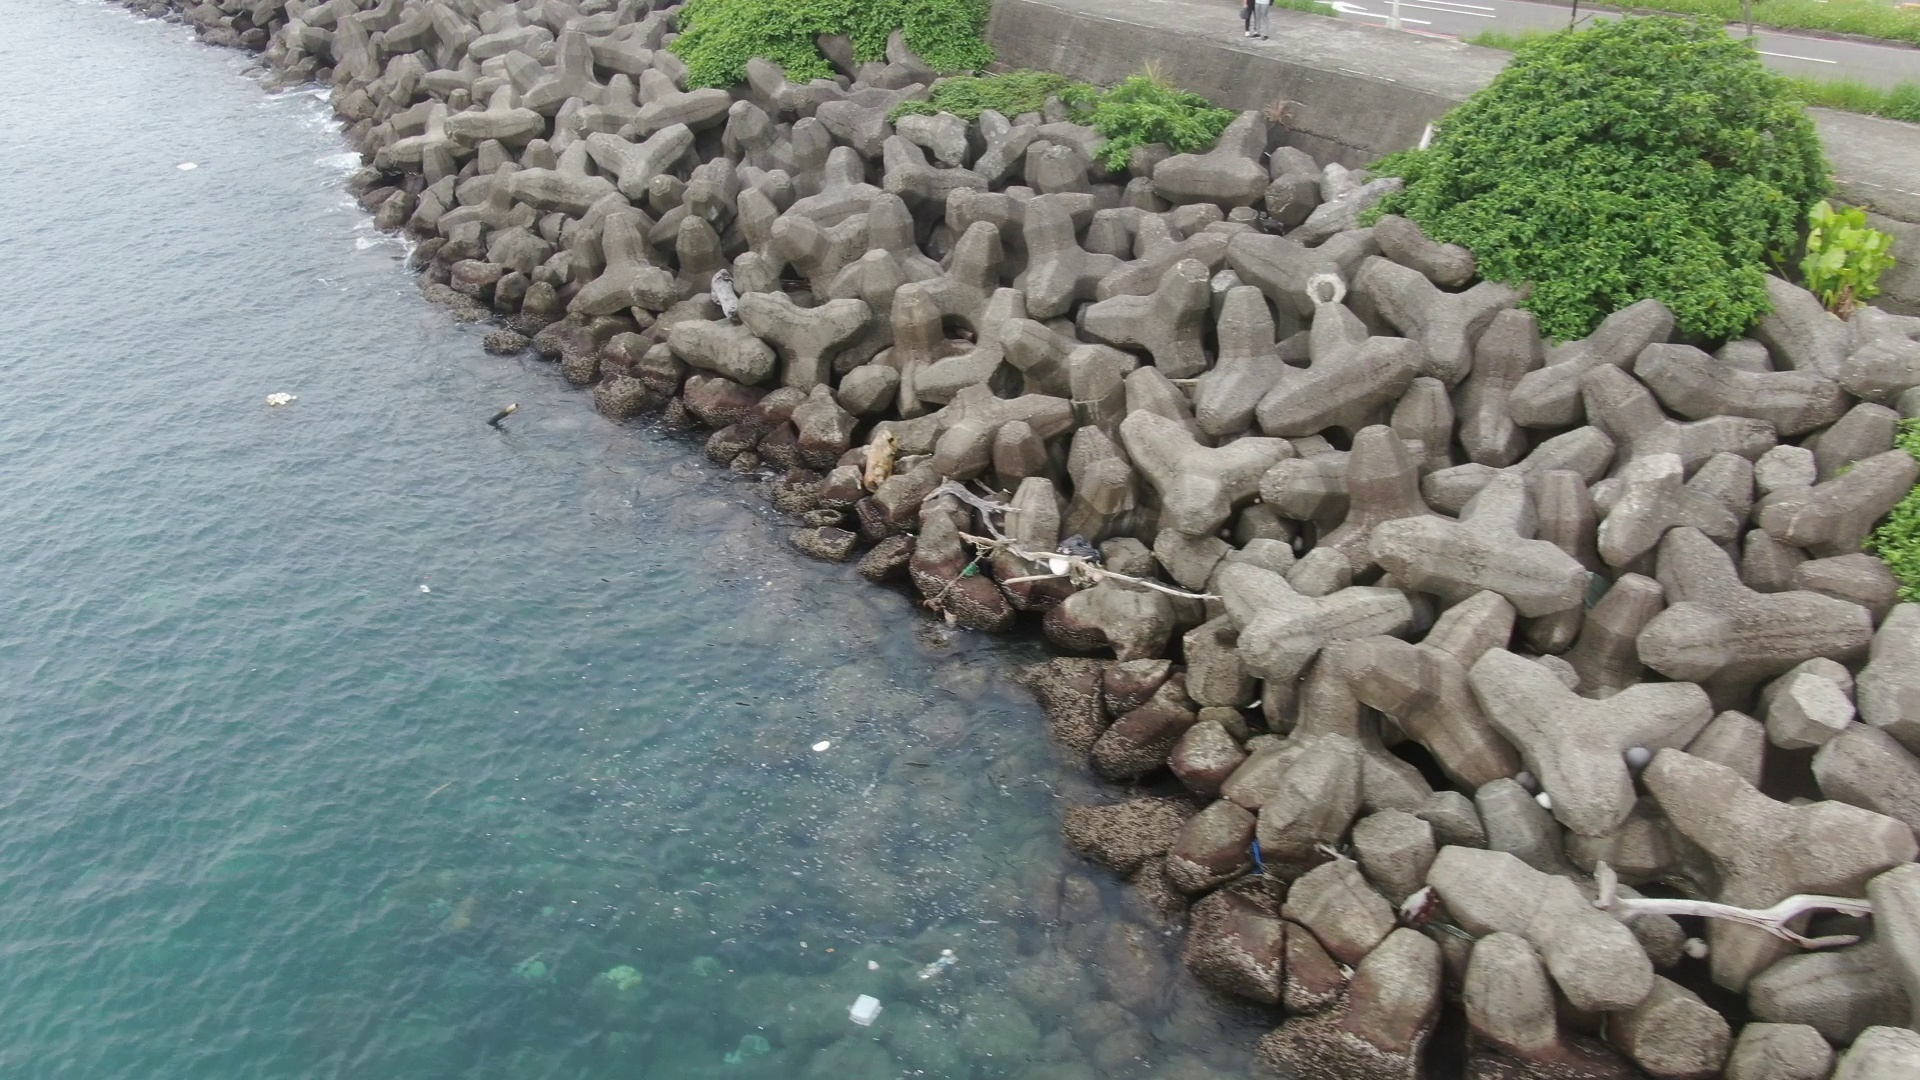garbage: (943, 501, 1141, 604), (837, 994, 898, 1035), (258, 388, 303, 410)
